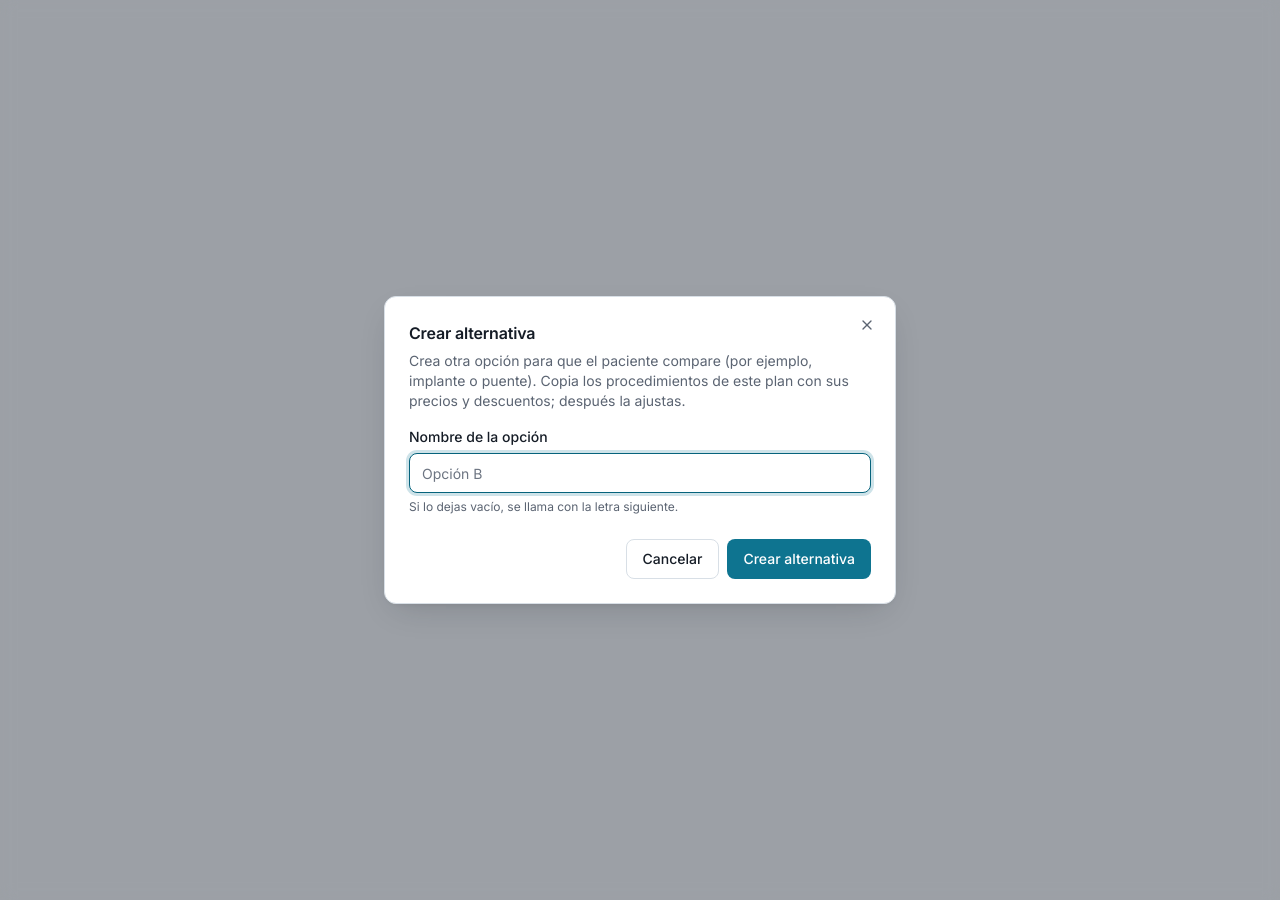
Test: CreateAlternativeModal (DX-040) › un 409 (opción ya elegida) se queda en el modal
Click the button "Crear alternativa".
click(799, 559)  # box [727,539,871,579]
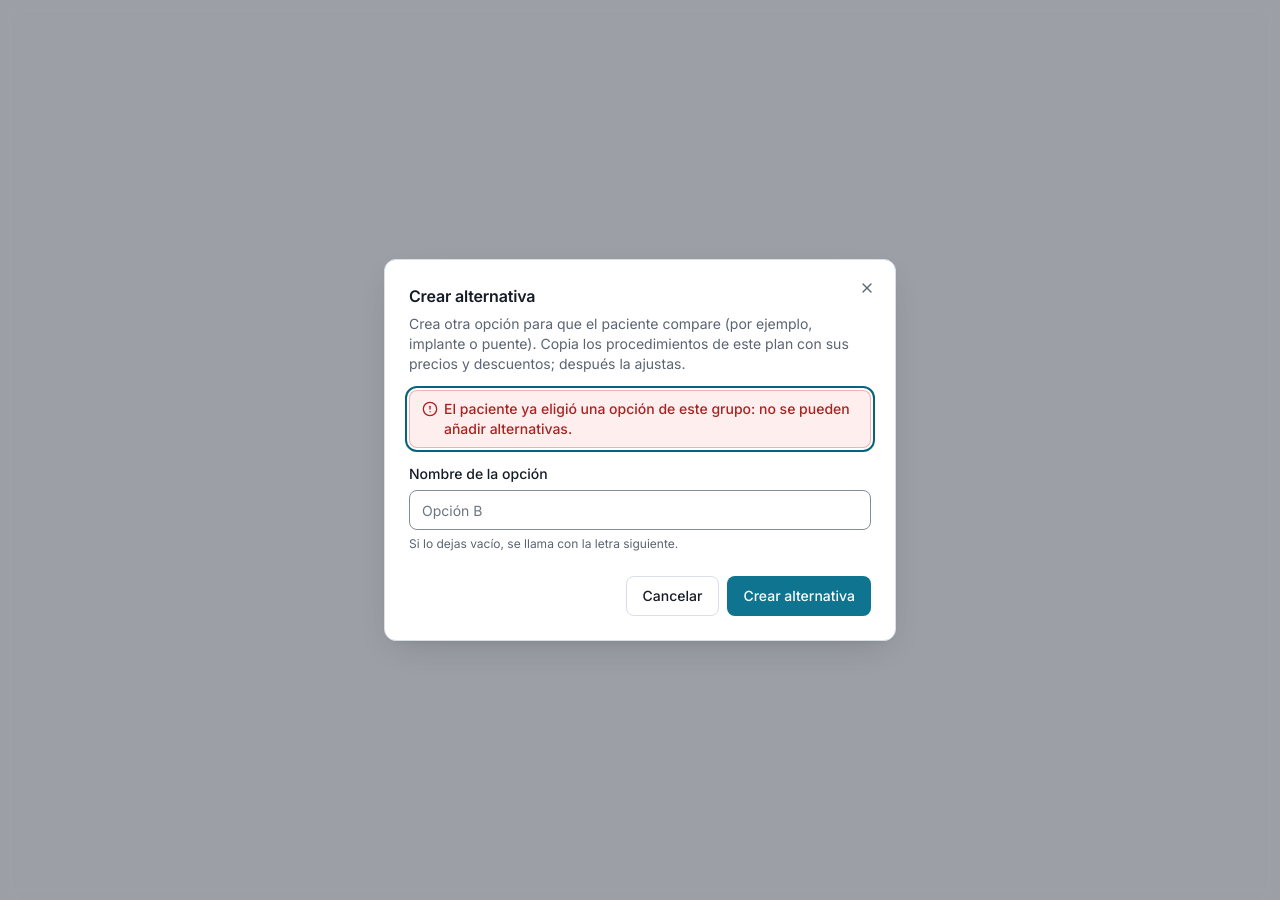
Check: the text "ya eligió una opción" is shown, box [444,400,850,437]
